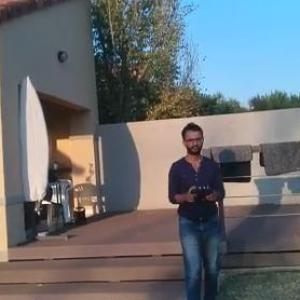follow: (164, 114, 232, 299)
